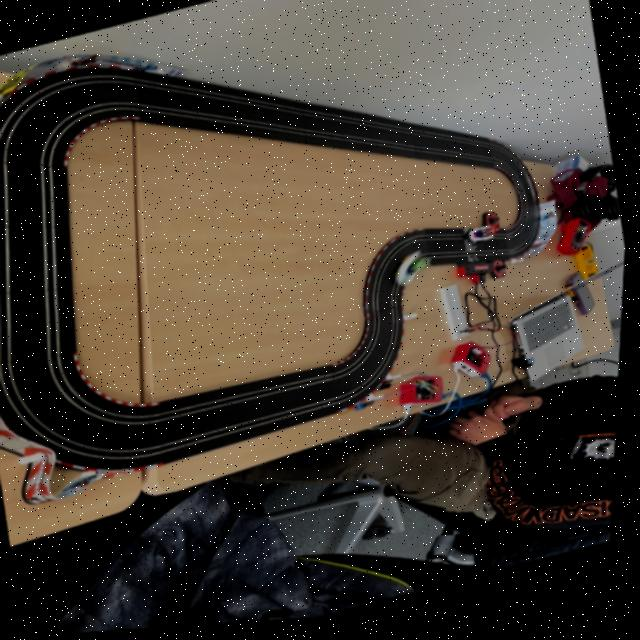mario: (465, 228, 506, 255)
yoshi: (391, 252, 441, 296)
